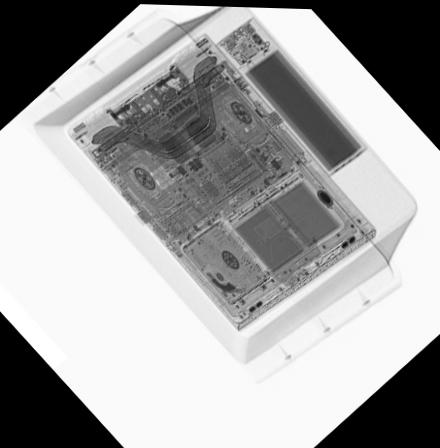Powerbank: (218, 13, 367, 171)
